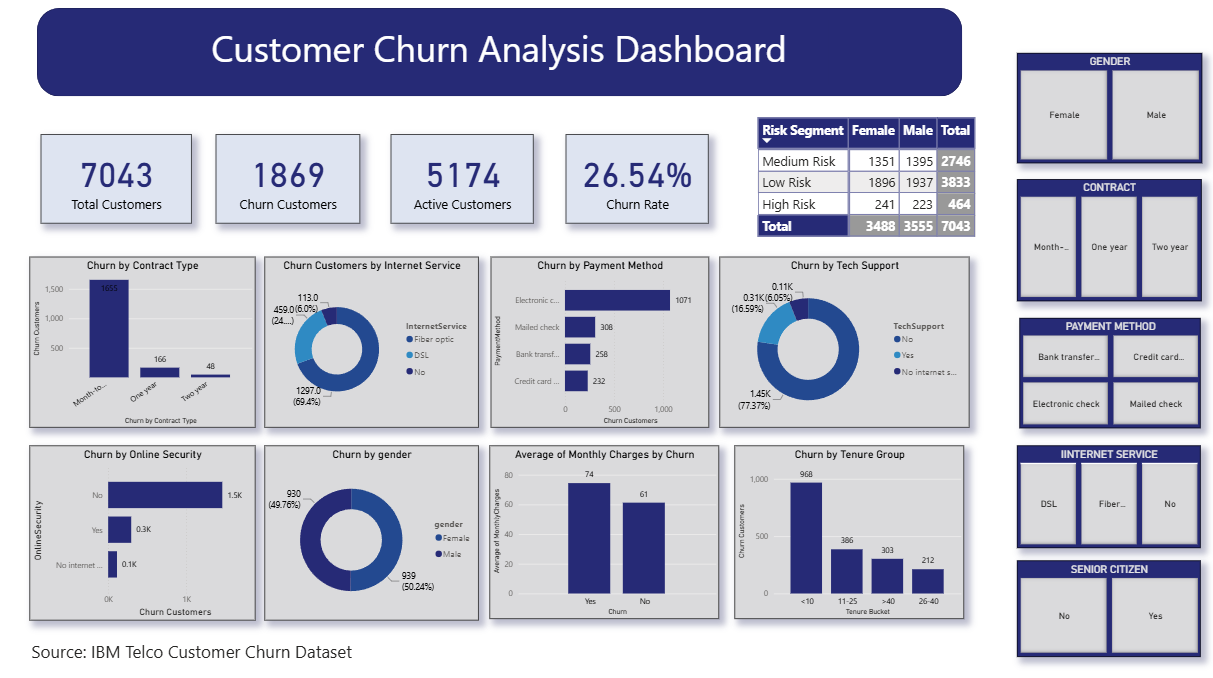

What the dashboard file says about the page in this screenshot:
{"tool":"powerbi","page":{"name":"Page 1","canvas":[1920,1080],"ordinal":0},"visuals":[{"type":"shape","box":[71.4,24.3,1451.4,138.6],"z":0},{"type":"card","fields":{"Values":["Measure (2).Total Customers"]},"box":[76.7,221.7,236.7,140],"z":1000},{"type":"card","fields":{"Values":["Measure (2).Churn Customers"]},"box":[350,222,226,140],"z":2000},{"type":"card","fields":{"Values":["Measure (2).Churn Rate"]},"box":[900,222,224,140],"z":3000},{"type":"card","title":"Active Customers","fields":{"Values":["Measure (2).Active Customers"]},"box":[626,222,224,140],"z":4000},{"type":"clusteredColumnChart","title":"Churn by Contract Type","fields":{"Category":["Telco_Customer_Churn.Contract"],"Y":["Measure (2).Churn Customers"]},"box":[58,414,354,268],"z":5000},{"type":"donutChart","title":"Churn Customers by Internet Service","fields":{"Category":["Telco_Customer_Churn.InternetService"],"Y":["Measure (2).Churn Customers"]},"box":[428,414,336,268],"z":6000},{"type":"barChart","title":"Churn by Payment Method","fields":{"Y":["Measure (2).Churn Customers"],"Category":["Telco_Customer_Churn.PaymentMethod"]},"box":[782,414,342,268],"z":7000},{"type":"donutChart","title":"Churn by Tech Support","fields":{"Category":["Telco_Customer_Churn.TechSupport"],"Y":["Measure (2).Churn Customers"]},"box":[1142,414,392,268],"z":8000},{"type":"barChart","title":"Churn by Online Security","fields":{"Y":["Measure (2).Churn Customers"],"Category":["Telco_Customer_Churn.OnlineSecurity"]},"box":[58,710,354,274],"z":9000},{"type":"donutChart","title":"Churn by gender","fields":{"Category":["Telco_Customer_Churn.gender"],"Y":["Measure (2).Churn Customers"]},"box":[428,710,336,274],"z":10000},{"type":"clusteredColumnChart","title":"Churn by Tenure Group","fields":{"Category":["Telco_Customer_Churn.Tenure Bucket"],"Y":["Measure (2).Churn Customers"]},"box":[1164,710,360,272],"z":11000},{"type":"advancedSlicerVisual","title":"GENDER","fields":{"Values":["Telco_Customer_Churn.gender"]},"box":[1607.8,94.1,290.2,172.5],"z":12000},{"type":"advancedSlicerVisual","title":"PAYMENT METHOD","fields":{"Values":["Telco_Customer_Churn.PaymentMethod"]},"box":[1611.8,509.8,284.3,172.5],"z":13000},{"type":"advancedSlicerVisual","title":"IINTERNET SERVICE","fields":{"Values":["Telco_Customer_Churn.InternetService"]},"box":[1607.8,709.8,288.2,160.8],"z":14000},{"type":"advancedSlicerVisual","title":"SENIOR CITIZEN","fields":{"Values":["Telco_Customer_Churn.SeniorCitizen"]},"box":[1607.8,890.2,288.2,151],"z":15000},{"type":"clusteredColumnChart","title":"Average of Monthly Charges by Churn","fields":{"Category":["Telco_Customer_Churn.Churn"],"Y":["Avg(Telco_Customer_Churn.MonthlyCharges)"]},"box":[780,710,360,272],"z":16000},{"type":"advancedSlicerVisual","title":"CONTRACT","fields":{"Values":["Telco_Customer_Churn.Contract"]},"box":[1607.1,292.9,289.3,191.1],"z":17000},{"type":"pivotTable","fields":{"Rows":["Telco_Customer_Churn.Risk Segment"],"Columns":["Telco_Customer_Churn.gender"],"Values":["Measure (2).Total Customers"]},"box":[1196.4,189.3,362.5,205.4],"z":18000},{"type":"textbox","box":[247.1,43.1,1064.7,102],"z":19000},{"type":"textbox","box":[57.1,1010.7,912.5,69.6],"z":20000}]}

Visuals, with their boxes in screenshot pixels (x1, y1, x2, y2), scaled from the page's 1920x1080 canvas onto the 1213x678 screenshot:
shape: (x1=45, y1=15, x2=962, y2=102)
card - Measure (2).Total Customers: (x1=48, y1=139, x2=198, y2=227)
card - Measure (2).Churn Customers: (x1=221, y1=139, x2=364, y2=227)
card - Measure (2).Churn Rate: (x1=569, y1=139, x2=710, y2=227)
"Active Customers" card: (x1=395, y1=139, x2=537, y2=227)
"Churn by Contract Type" clusteredColumnChart: (x1=37, y1=260, x2=260, y2=428)
"Churn Customers by Internet Service" donutChart: (x1=270, y1=260, x2=483, y2=428)
"Churn by Payment Method" barChart: (x1=494, y1=260, x2=710, y2=428)
"Churn by Tech Support" donutChart: (x1=721, y1=260, x2=969, y2=428)
"Churn by Online Security" barChart: (x1=37, y1=446, x2=260, y2=618)
"Churn by gender" donutChart: (x1=270, y1=446, x2=483, y2=618)
"Churn by Tenure Group" clusteredColumnChart: (x1=735, y1=446, x2=963, y2=616)
"GENDER" advancedSlicerVisual: (x1=1016, y1=59, x2=1199, y2=167)
"PAYMENT METHOD" advancedSlicerVisual: (x1=1018, y1=320, x2=1198, y2=428)
"IINTERNET SERVICE" advancedSlicerVisual: (x1=1016, y1=446, x2=1198, y2=547)
"SENIOR CITIZEN" advancedSlicerVisual: (x1=1016, y1=559, x2=1198, y2=654)
"Average of Monthly Charges by Churn" clusteredColumnChart: (x1=493, y1=446, x2=720, y2=616)
"CONTRACT" advancedSlicerVisual: (x1=1015, y1=184, x2=1198, y2=304)
pivotTable - Telco_Customer_Churn.Risk Segment x Telco_Customer_Churn.gender: (x1=756, y1=119, x2=985, y2=248)
textbox: (x1=156, y1=27, x2=829, y2=91)
textbox: (x1=36, y1=634, x2=613, y2=677)
